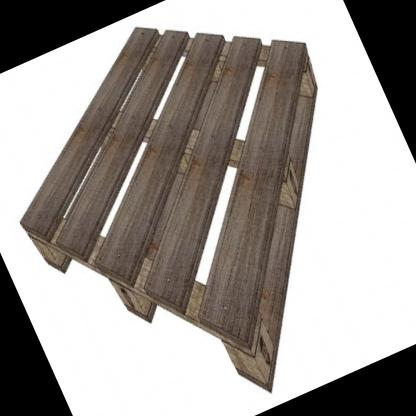BoxFace: (19, 25, 322, 398)
